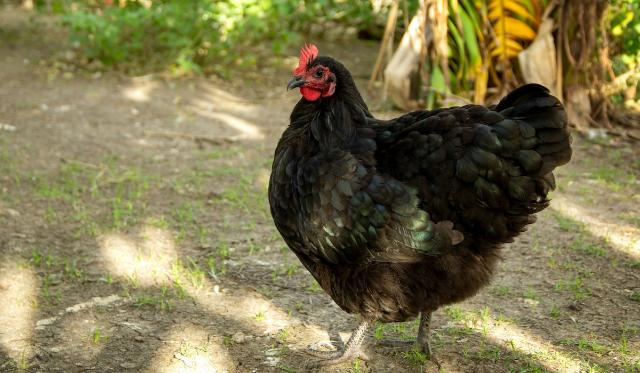Chicken: (267, 43, 573, 361)
